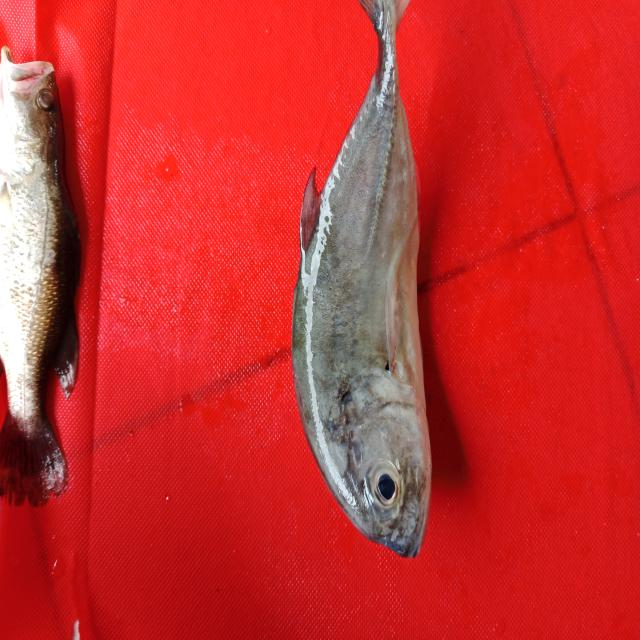ikan: (283, 7, 444, 574), (5, 45, 98, 516)
